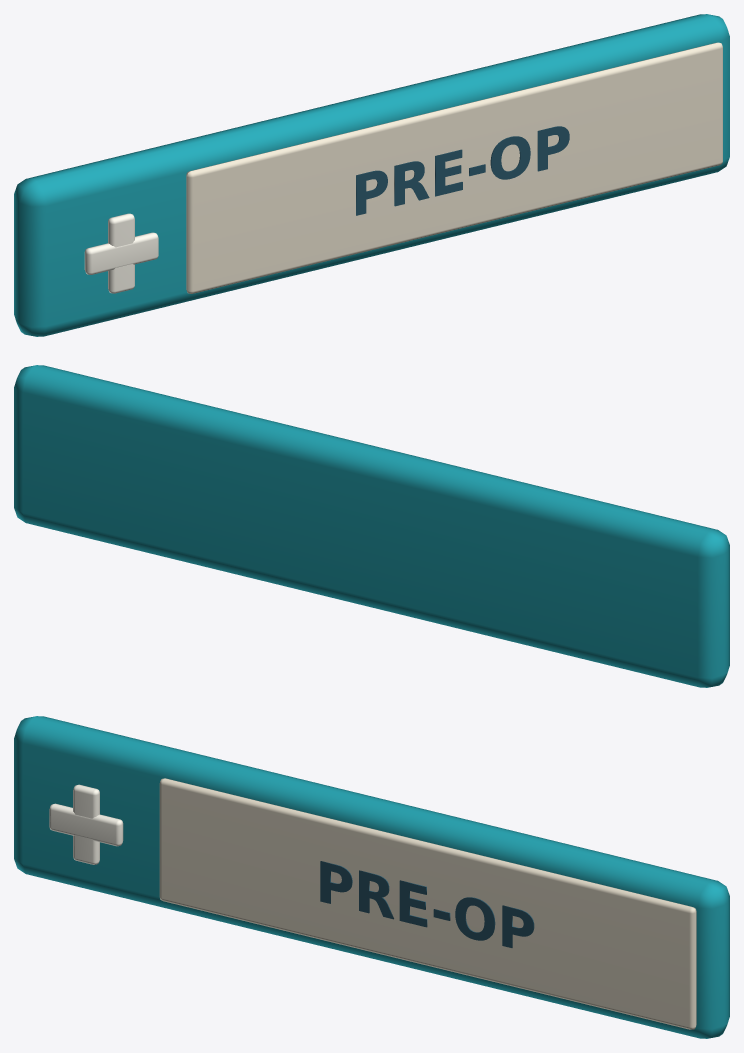
Rendered from Clinical_Sign_PreOp.glb.
3 views of the same model, one above another, from view 1: azimuth 30°, elevation 25°; view 2: azimuth 150°, elevation 25°; view 3: azimuth 330°, elevation 25° (orthographic).
Visible parts, largest first — view 1: Clinical_Sign_PreOp_cream, Clinical_Sign_PreOp_teal, Clinical_Sign_PreOp_navy, Clinical_Sign_PreOp_paper; view 2: Clinical_Sign_PreOp_teal; view 3: Clinical_Sign_PreOp_cream, Clinical_Sign_PreOp_teal, Clinical_Sign_PreOp_navy, Clinical_Sign_PreOp_paper.
Boxes of the visible parts, x1,y1,x2,y2 form: Clinical_Sign_PreOp_cream: [186, 42, 722, 293]; Clinical_Sign_PreOp_teal: [14, 14, 729, 336]; Clinical_Sign_PreOp_navy: [356, 126, 569, 215]; Clinical_Sign_PreOp_paper: [84, 213, 158, 293]; Clinical_Sign_PreOp_teal: [14, 365, 729, 687]; Clinical_Sign_PreOp_cream: [159, 778, 696, 1029]; Clinical_Sign_PreOp_teal: [14, 716, 729, 1038]; Clinical_Sign_PreOp_navy: [320, 861, 534, 947]; Clinical_Sign_PreOp_paper: [49, 784, 123, 864].
Size of the model in its own units: 1.48 by 0.31 by 0.116.
